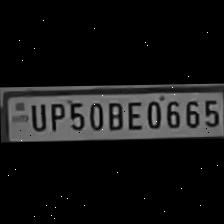0: (84, 98, 104, 129), (142, 97, 162, 128)
5: (64, 98, 84, 130), (200, 96, 220, 127)
6: (162, 96, 180, 128), (181, 95, 199, 126)
B: (103, 98, 123, 130)
E: (124, 96, 142, 129)
P: (45, 99, 65, 131)
U: (26, 99, 46, 130)
